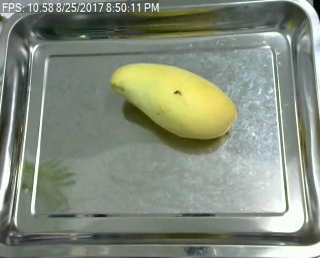Mango: (99, 50, 241, 142)
